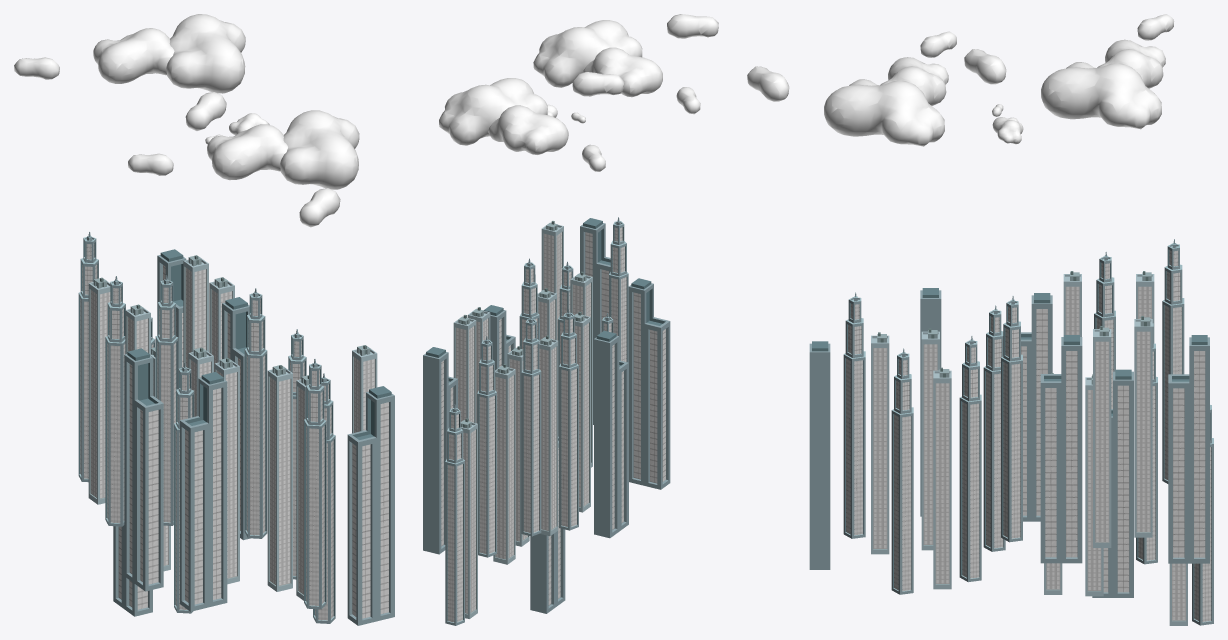
The model's file is City.fbx.
3 views of the same model, side by side, from view 1: azimuth 30°, elevation 25°; view 2: azimuth 150°, elevation 25°; view 3: azimuth 270°, elevation 25° (orthographic). The views are drawn at different scales.
Visible parts, largest first — view 1: enviroment_building_11, enviroment_building_24, enviroment_building_04, cloud_02, cloud_04, enviroment_building_12, enviroment_building_10, enviroment_building_17, enviroment_building, enviroment_building_07, cloud_03, cloud_01 (+16 smaller); view 2: enviroment_building_11, enviroment_building_04, enviroment_building_08, cloud_04, cloud_02, enviroment_building_01, enviroment_building_18, enviroment_building, enviroment_building_14, enviroment_building_06, enviroment_building_07, cloud_03 (+15 smaller); view 3: enviroment_building_05, enviroment_building_08, cloud_04, cloud_02, enviroment_building_16, enviroment_building_17, enviroment_building_20, enviroment_building_21, enviroment_building_24, enviroment_building_10, enviroment_building_04, enviroment_building_15 (+17 smaller).
Boxes of the visible parts, x1,y1,x2,y2 form: enviroment_building_11: (180,372,227,611); enviroment_building_24: (347,386,394,625); enviroment_building_04: (124,348,163,591); cloud_02: (280,110,359,227); cloud_04: (166,14,245,130); enviroment_building_12: (267,365,292,591); enviroment_building_10: (244,288,267,538); enviroment_building_17: (304,359,326,609); enviroment_building: (105,276,125,526); enviroment_building_07: (88,277,110,504); cloud_03: (14,28,174,83); cloud_01: (128,124,287,180); enviroment_building_11: (628,278,670,489); enviroment_building_04: (594,330,628,538); enviroment_building_08: (423,347,457,554); cloud_04: (439,72,624,145); cloud_02: (533,14,718,87); enviroment_building_01: (521,315,541,536); enviroment_building_18: (445,404,464,625); enviroment_building: (559,309,578,530); enviroment_building_14: (477,336,496,557); enviroment_building_06: (493,364,515,564); enviroment_building_07: (539,335,558,536); cloud_03: (488,105,605,171); enviroment_building_05: (1040,335,1082,563); enviroment_building_08: (1168,335,1209,563); cloud_04: (964,49,1161,129); cloud_02: (747,66,944,146); enviroment_building_16: (1092,369,1133,597); enviroment_building_17: (843,292,865,538); enviroment_building_20: (891,348,913,594); enviroment_building_21: (959,336,981,582); enviroment_building_24: (809,341,830,569); enviroment_building_10: (1001,296,1022,542); enviroment_building_04: (1021,293,1052,521); enviroment_building_15: (983,305,1005,551).
Bounding box in the file's own units: 13112 × 33798 × 25457.
